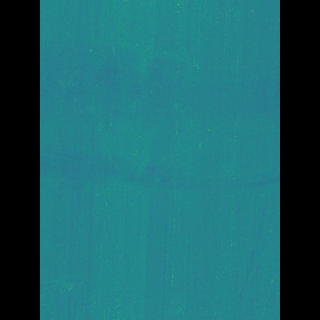Loch: (71, 37, 249, 199)
